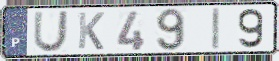4: (115, 8, 147, 52)
9: (154, 7, 189, 52), (237, 8, 265, 49)
I: (211, 6, 222, 52)
K: (76, 11, 106, 52)
U: (32, 9, 70, 53)
